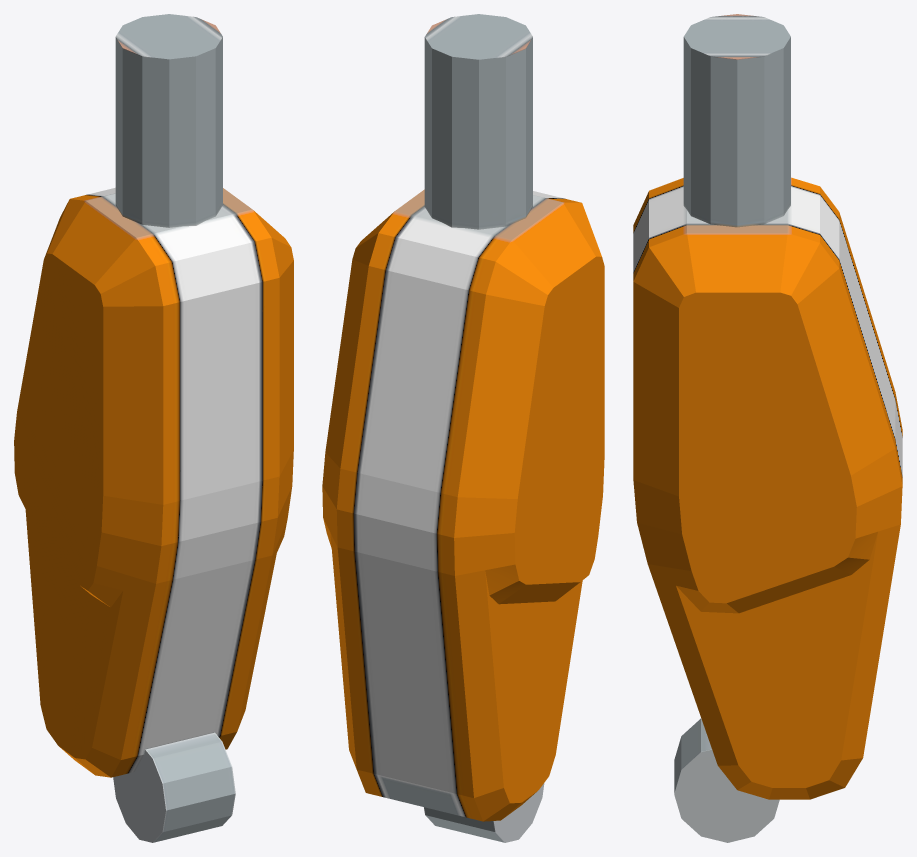
File: L_SHOULDER_Y_S.dae
The picture shows the model from 3 angles, left to right: view 1: azimuth 30°, elevation 25°; view 2: azimuth 150°, elevation 25°; view 3: azimuth 270°, elevation 25°; orthographic projection.
Parts seen in each view (by area): view 1: root; view 2: root; view 3: root.
Boxes of the visible parts, x1=… form: root: x1=14, y1=14, x2=293, y2=842; root: x1=322, y1=14, x2=604, y2=842; root: x1=633, y1=14, x2=902, y2=842.
Bounding box in the file's own units: 0.082 × 0.1004 × 0.3249.
1 material, 1 textured.
